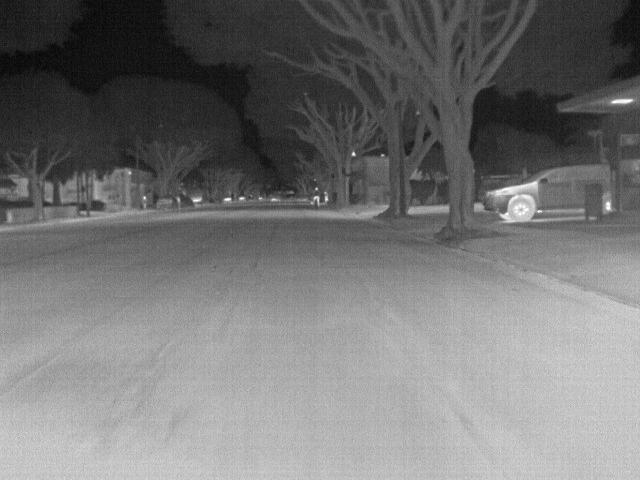car: (482, 161, 586, 224), (153, 193, 176, 210), (176, 191, 194, 208)
person: (312, 184, 320, 200), (141, 193, 148, 210)
